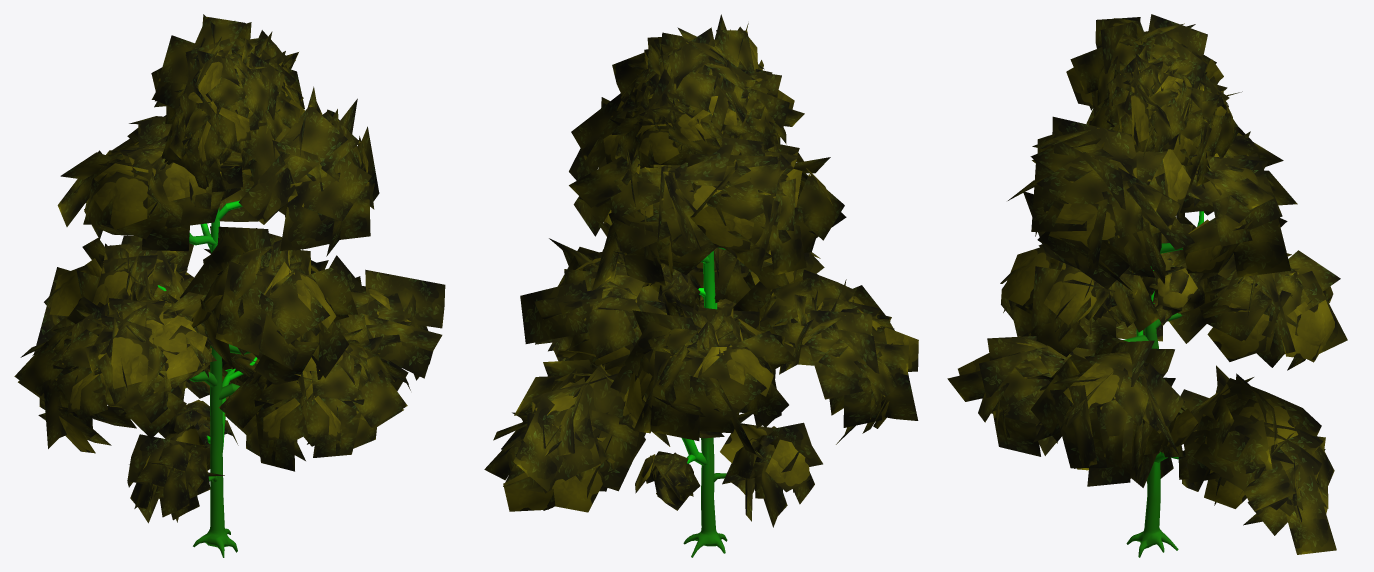
File: hvs_trees_leafy03_lod1.fbx
3 views of the same model, side by side, from view 1: azimuth 30°, elevation 25°; view 2: azimuth 150°, elevation 25°; view 3: azimuth 270°, elevation 25° (orthographic). The views are drawn at different scales.
Visible parts, largest first — view 1: hvs_trees_leafy03_lod1; view 2: hvs_trees_leafy03_lod1; view 3: hvs_trees_leafy03_lod1.
Part boxes in pixels (x1,y1,x2,y2): hvs_trees_leafy03_lod1: (14, 14, 445, 557); hvs_trees_leafy03_lod1: (484, 14, 918, 557); hvs_trees_leafy03_lod1: (947, 14, 1347, 557).
Size of the model in its own units: 99.95 by 131 by 91.05.
